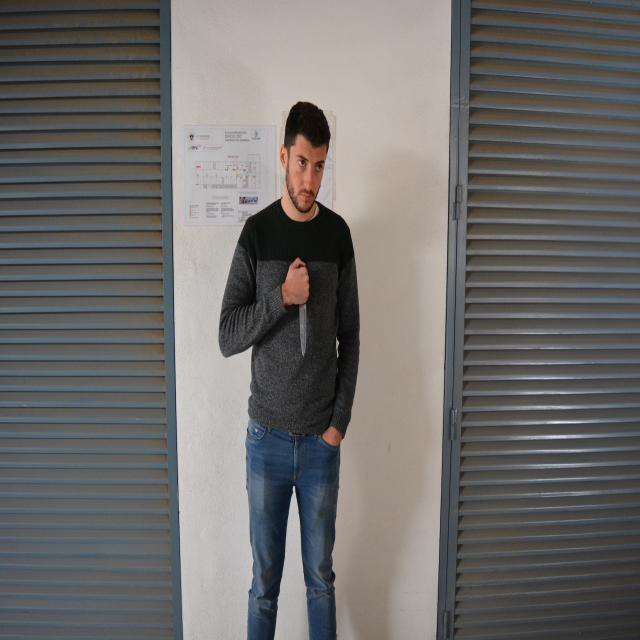knife: (297, 302, 311, 360)
